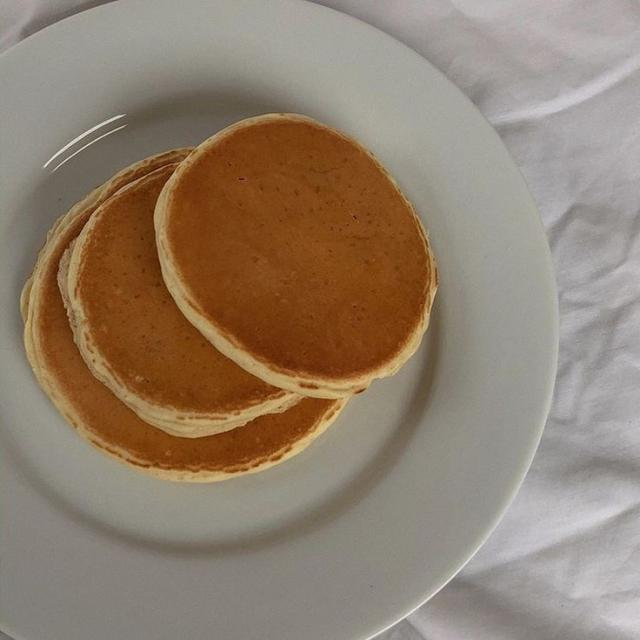pancake: (21, 150, 344, 481), (155, 115, 437, 397), (59, 165, 300, 437)
